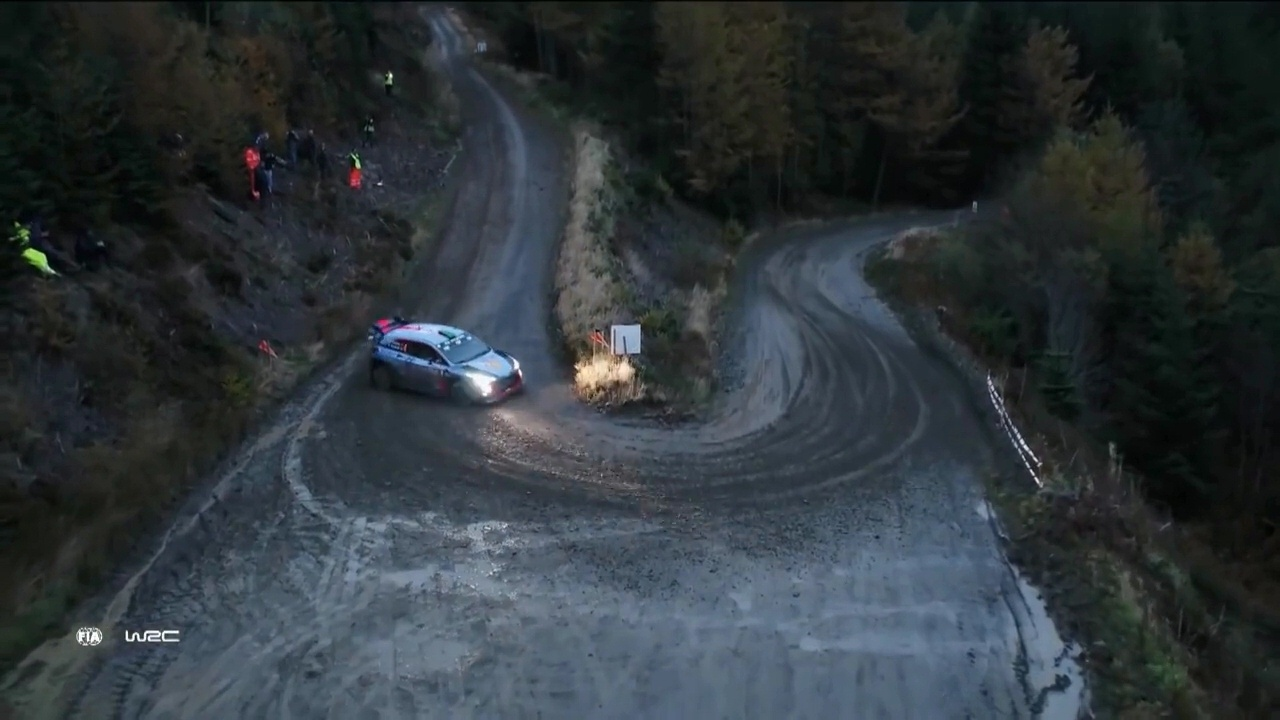araba: (362, 315, 526, 408)
